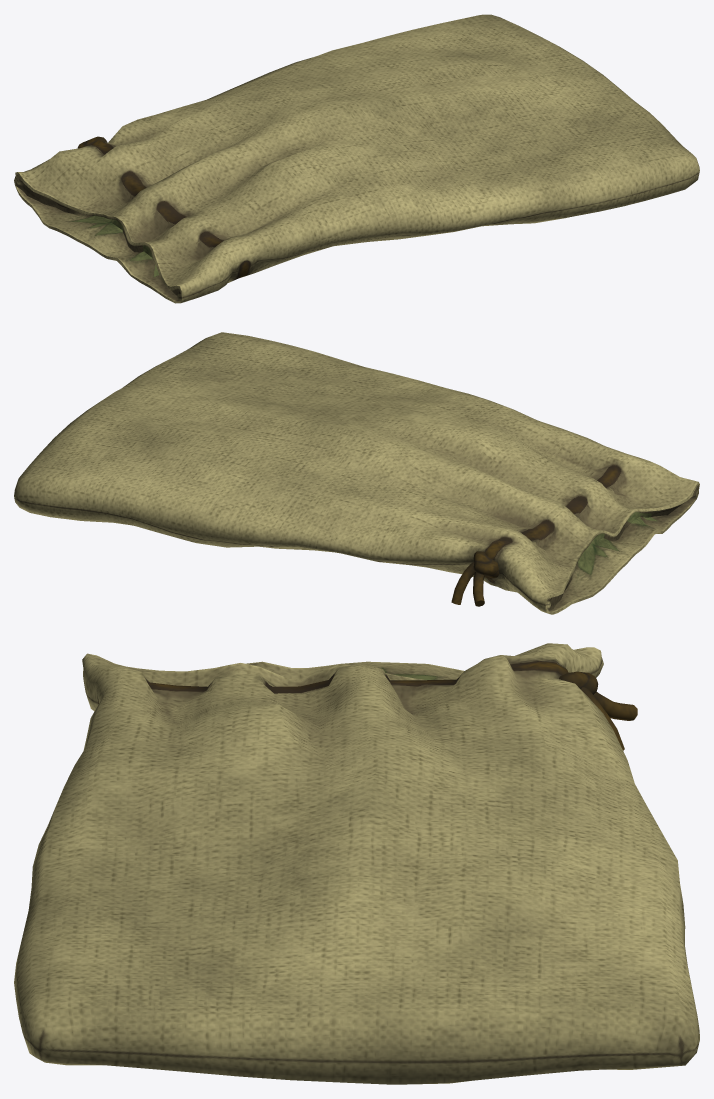
File: Meshochek.fbx
3 views of the same model, one above another, from view 1: azimuth 30°, elevation 25°; view 2: azimuth 150°, elevation 25°; view 3: azimuth 270°, elevation 25° (orthographic). The views are drawn at different scales.
Parts seen in each view (by area): view 1: meshochek; view 2: meshochek; view 3: meshochek.
Boxes of the visible parts, box(x1,y1,x2,y2) form: meshochek: box(14, 14, 699, 303); meshochek: box(14, 332, 699, 614); meshochek: box(14, 643, 699, 1084).
Bounding box in the file's own units: 0.0112 × 0.00176 × 0.00761.
1 material, 1 textured.
